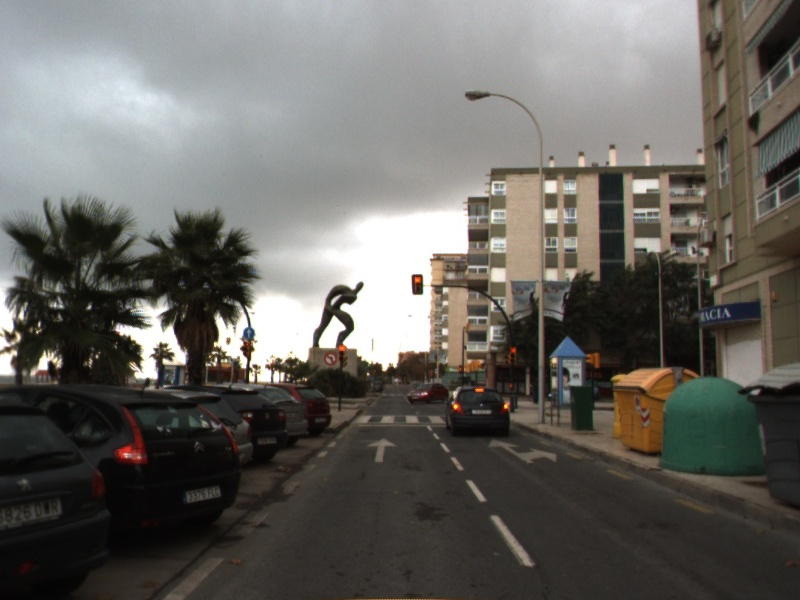STRAIGHT: (365, 436, 400, 464)
STRAIGHT_RIGHT: (487, 437, 558, 465)
